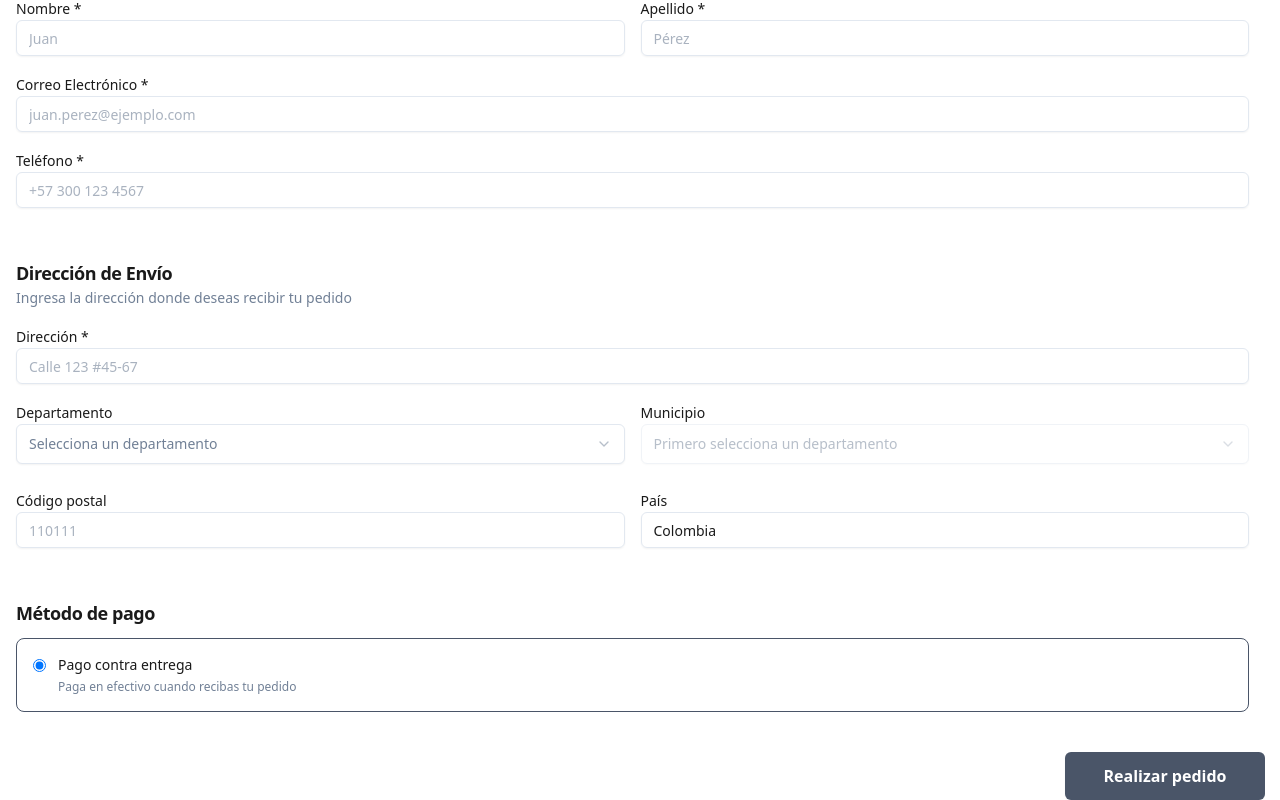
Test: GuestCheckoutForm field validation › leaves a valid field unmarked once corrected
(page scrolled)
Click the button "Realizar pedido": (1165, 776) [1065,752,1265,799]
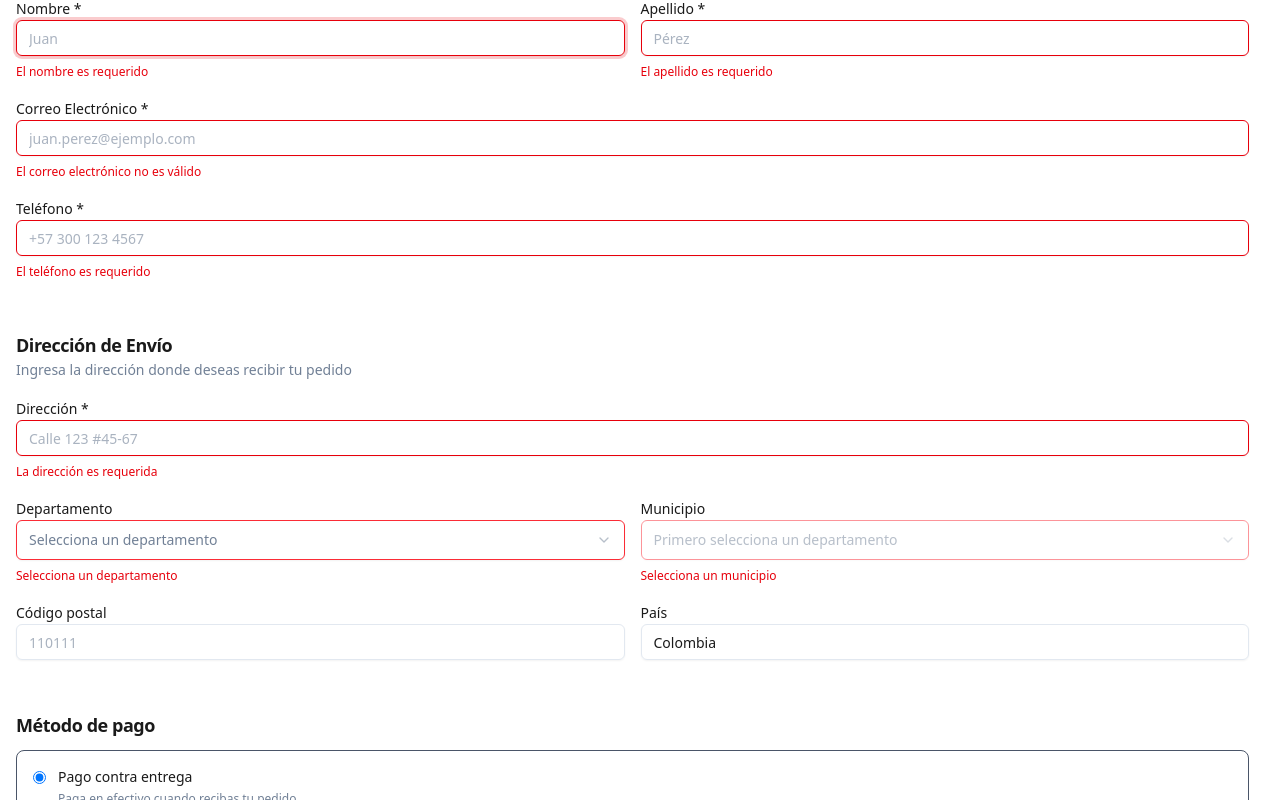
Expected: the field labelled "Teléfono *" is marked as invalid
In the field labelled "Teléfono *": (632, 238) [16,220,1249,256], type "3001234567"
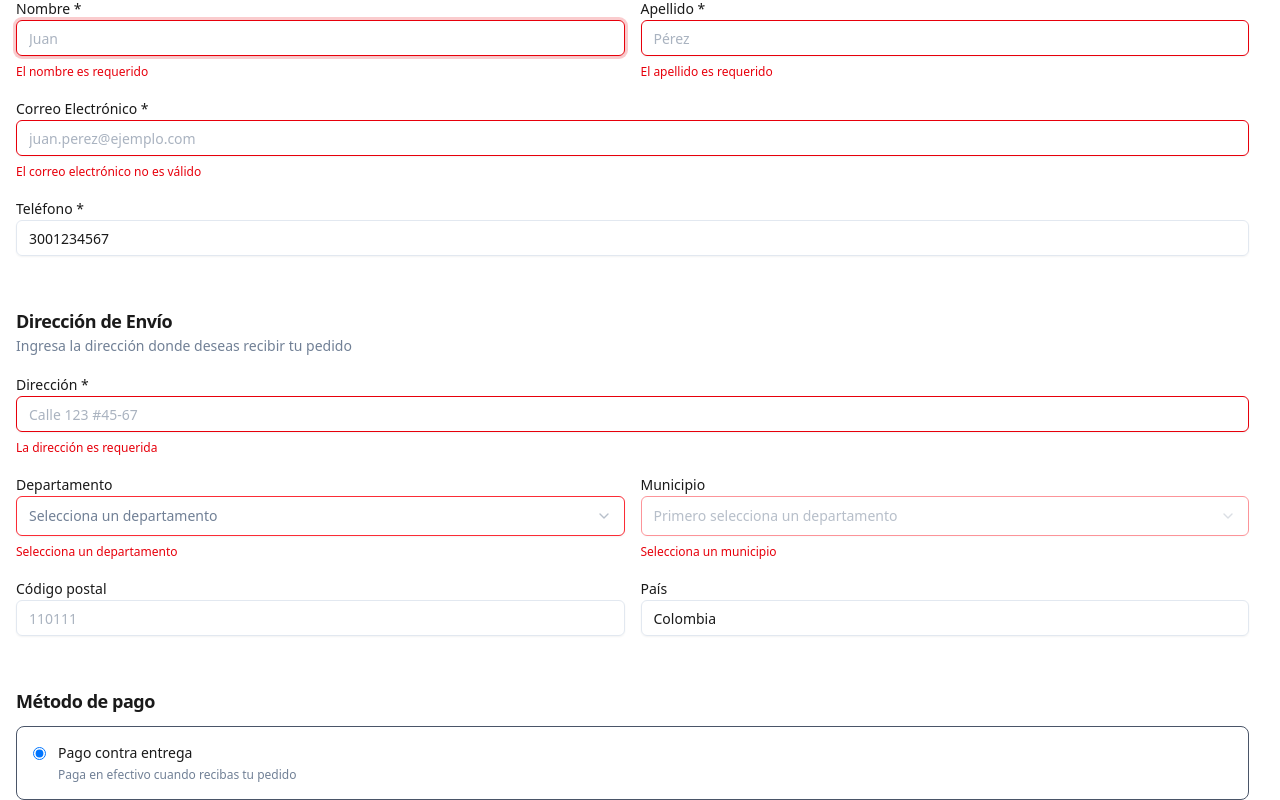
Expected: the field labelled "Teléfono *" does not have attribute aria-invalid, [16,220,1249,256]
